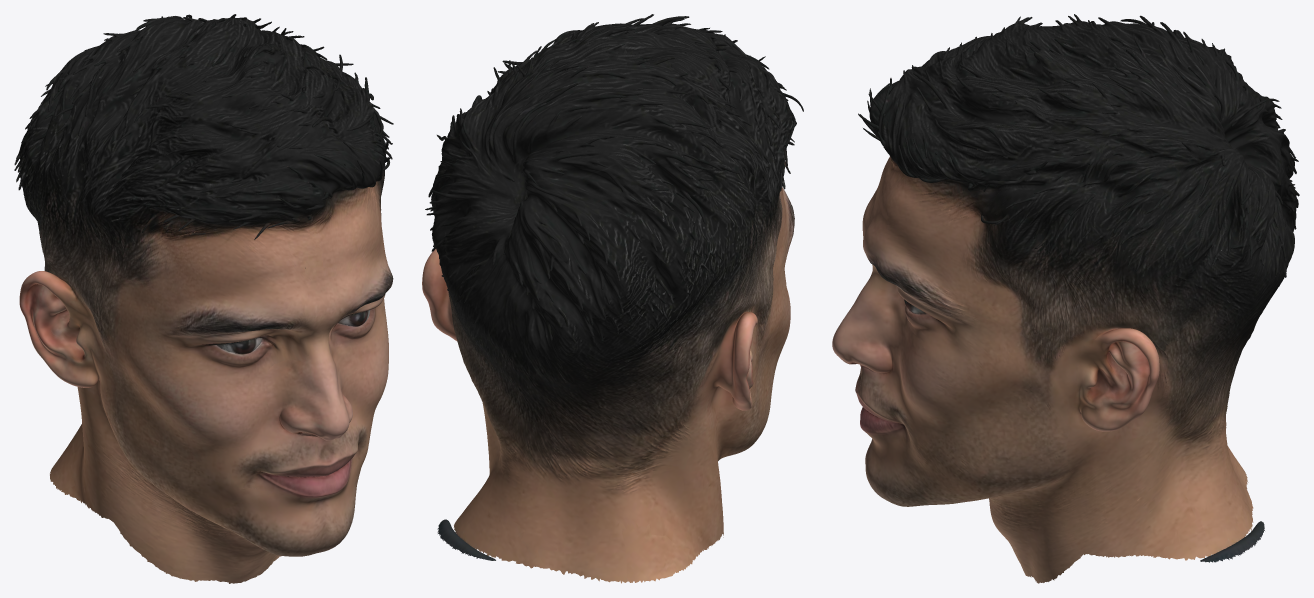
The model's file is skin_m_2k.glb.
3 renders of one model, left to right at view 1: azimuth 30°, elevation 25°; view 2: azimuth 150°, elevation 25°; view 3: azimuth 270°, elevation 25°, orthographic. The views are drawn at different scales.
Parts seen in each view (by area): view 1: Skin; view 2: Skin; view 3: Skin.
Boxes of the visible parts, x1,y1,x2,y2 form: Skin: [14, 14, 393, 583]; Skin: [422, 14, 803, 583]; Skin: [832, 14, 1299, 583].
Size of the model in its own units: 0.1798 by 0.2759 by 0.2178.
1 material, 1 textured.
